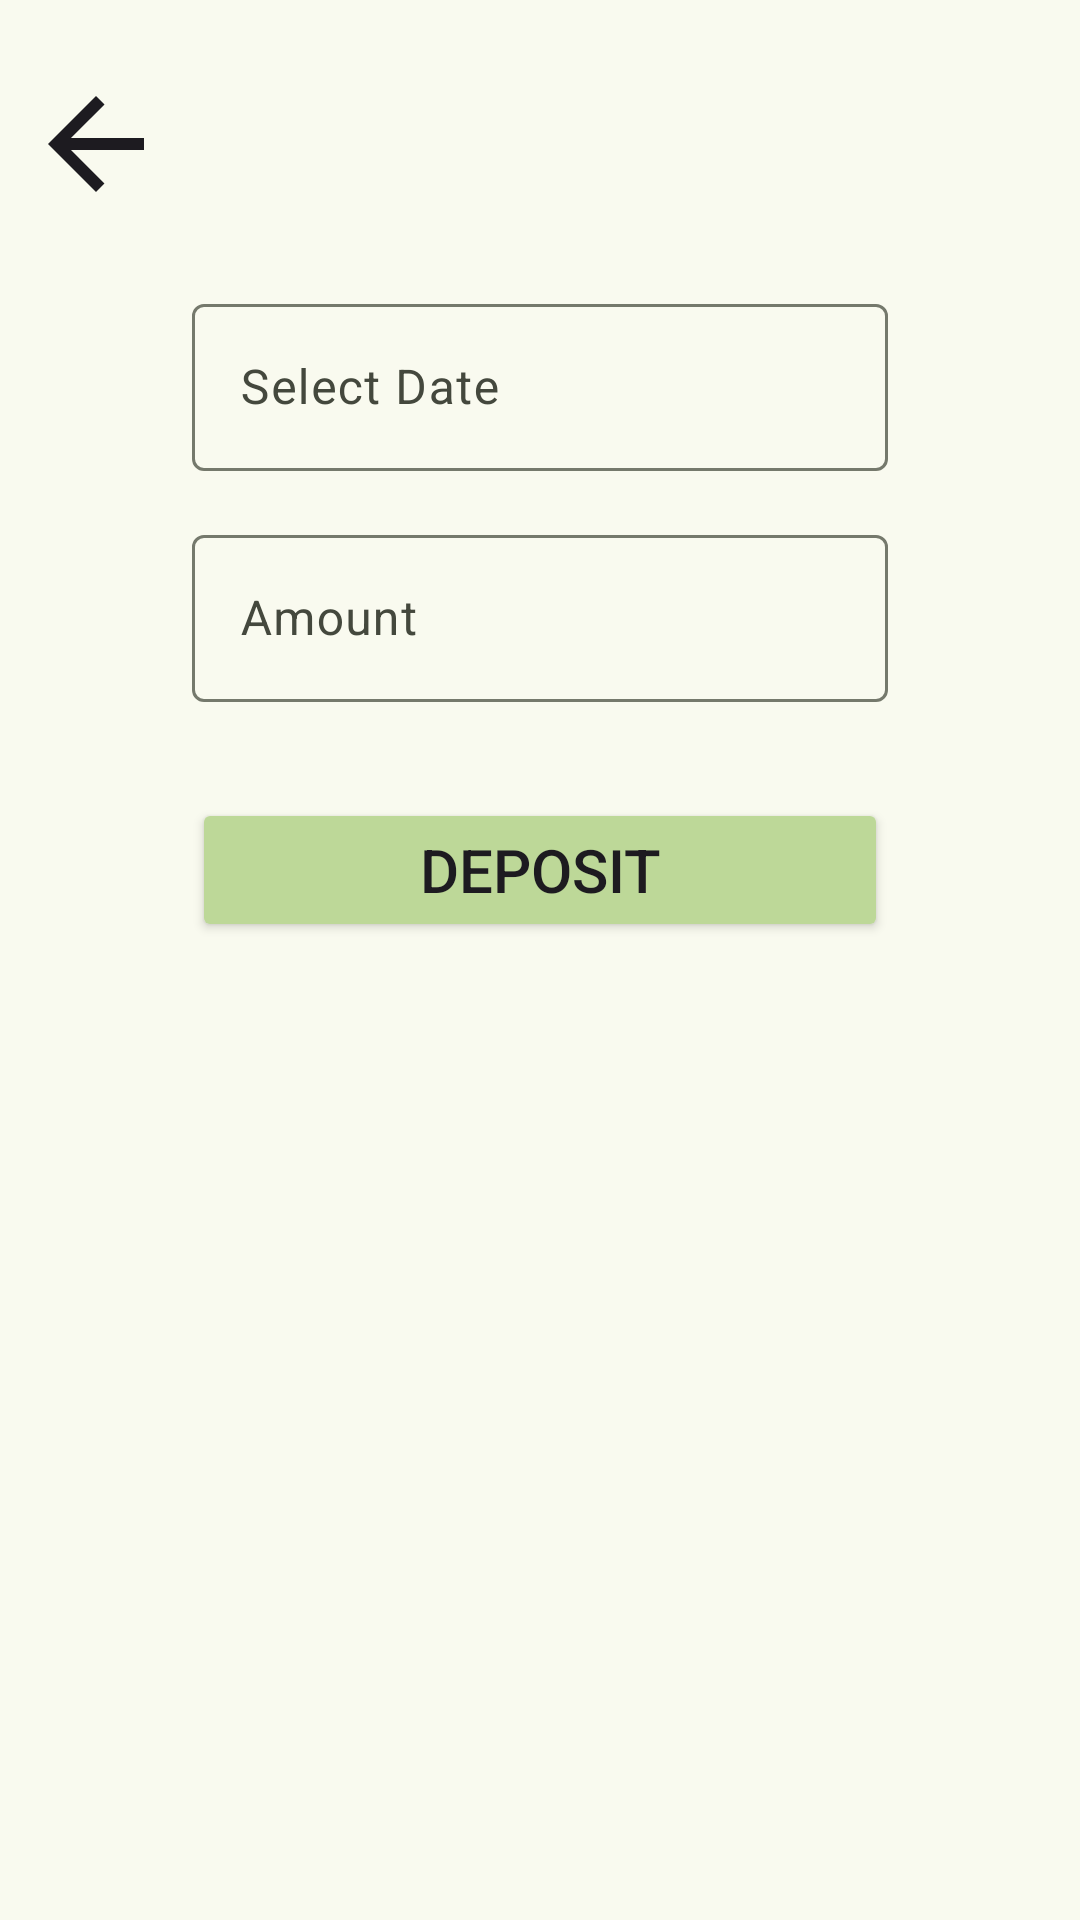

Icons on this 1080 x 1920 Android screen, each with its box as (x1, y1, x2, y2):
arrow back: (48, 96, 144, 192)
